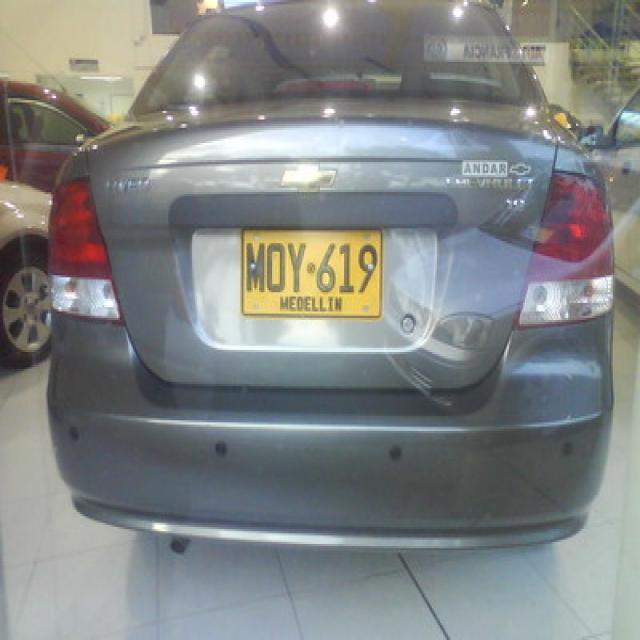placa_carro: (237, 222, 388, 325)
